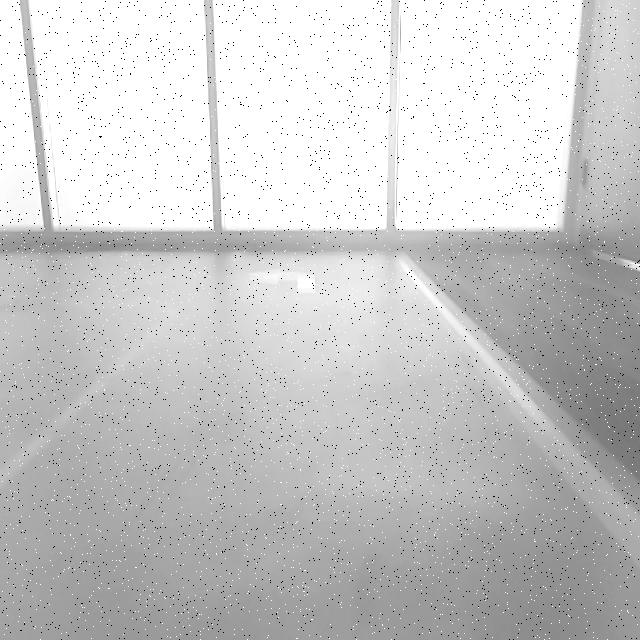left_lane: (0, 310, 173, 493)
right_lane: (401, 258, 640, 566)
